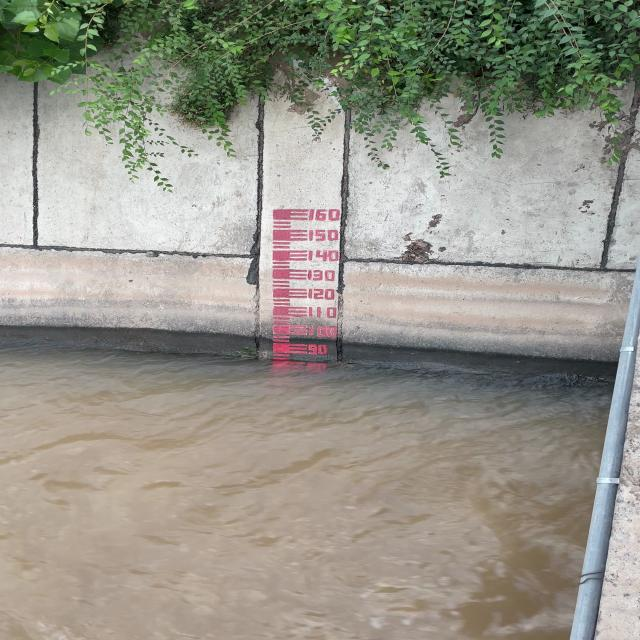ruler: (262, 204, 354, 367)
value: (306, 206, 345, 224), (304, 323, 341, 340), (305, 248, 343, 264), (304, 268, 340, 284), (306, 228, 344, 243), (305, 286, 340, 302), (304, 305, 341, 320), (304, 342, 332, 356)
